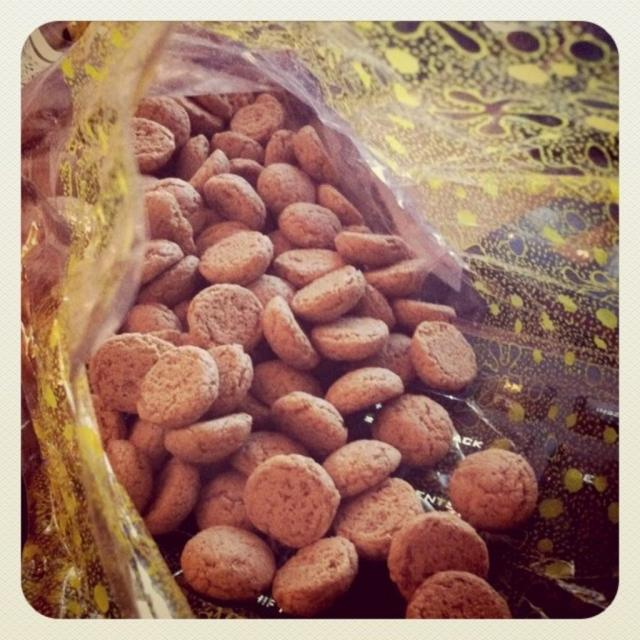Cookie: (24, 90, 541, 620), (246, 454, 337, 550)
